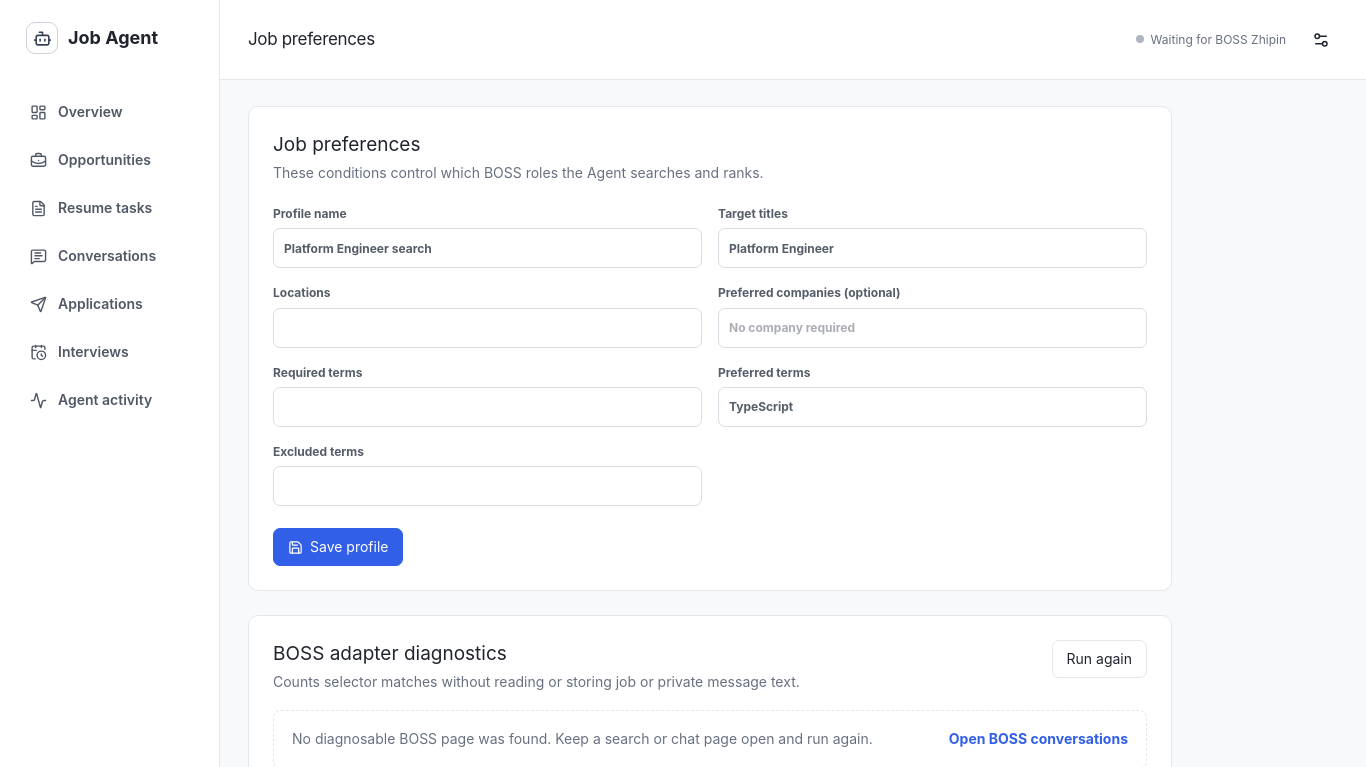
Test: JobRadarApp › derives the initial BOSS search preferences from the resume
Expected: the field showing "Platform Engineer" is shown, [718,228,1147,268]
Click the button "Save profile" at point(338, 547), box [273,528,404,566]
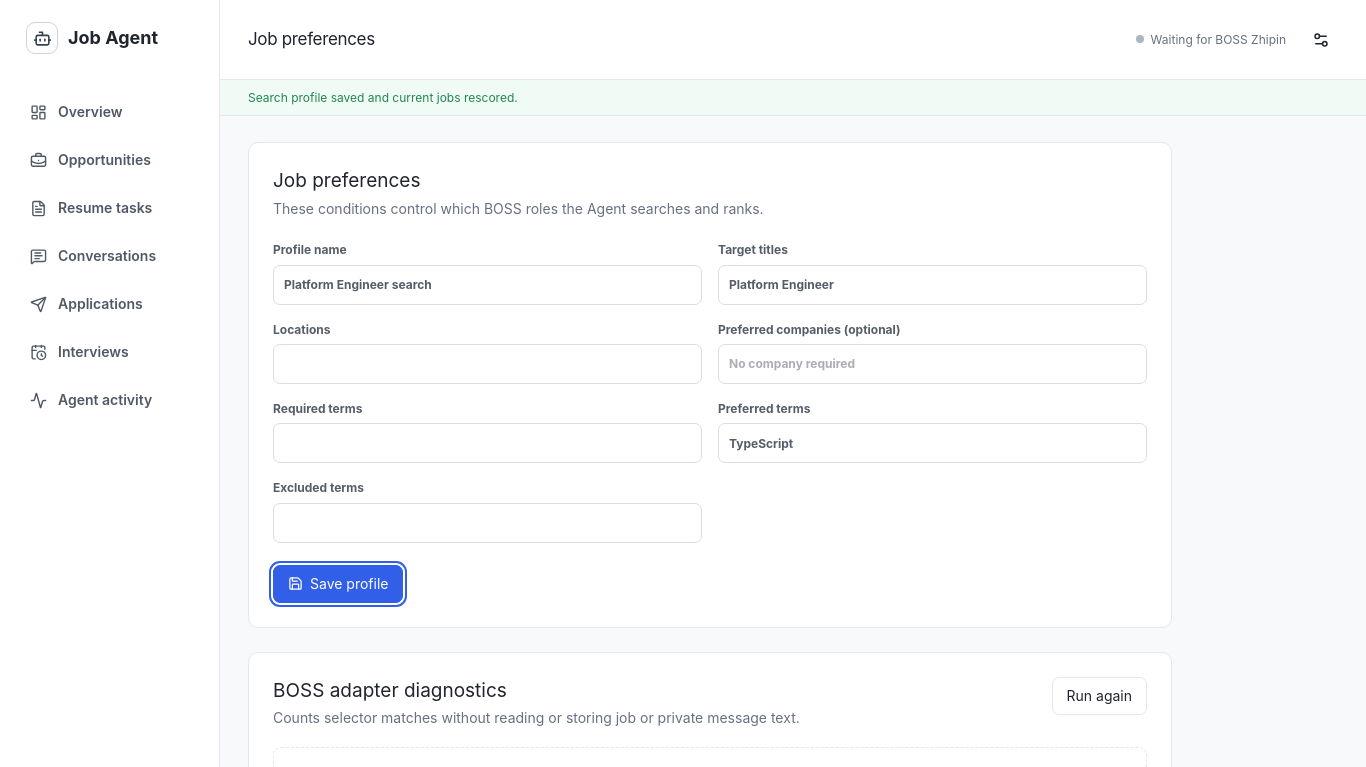
Result: the text "Search profile saved and current jobs rescored." is shown at [220,80,1365,116]
